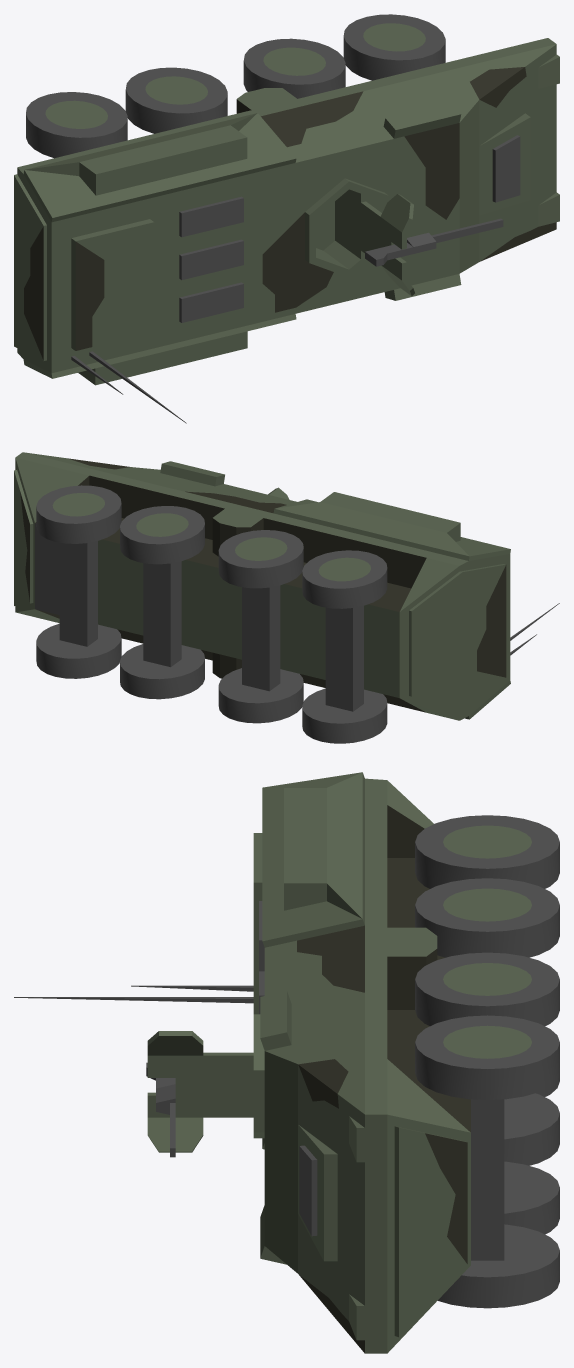
File: apc.dae
3 views of the same model, one above another, from view 1: azimuth 30°, elevation 25°; view 2: azimuth 150°, elevation 25°; view 3: azimuth 270°, elevation 25° (orthographic). The views are drawn at different scales.
Parts seen in each view (by area): view 1: coords_ME_ID11_MA_Color_F20, coords_ME_ID159_MA_Color_F20, coords_ME_ID153_MA_Color_F20, coords_ME_ID3_MA_material, coords_ME_ID93_MA_material, coords_ME_ID105_MA_material, coords_ME_ID273_MA_Color_E25, coords_ME_ID111_MA_material, coords_ME_ID267_MA_Color_E25, coords_ME_ID25_MA_Color_E25, coords_ME_ID255_MA_Color_E25, coords_ME_ID33_MA_Color_F20 (+13 smaller); view 2: coords_ME_ID11_MA_Color_F20, coords_ME_ID39_MA_Color_E25, coords_ME_ID75_MA_material, coords_ME_ID225_MA_Color_F20, coords_ME_ID123_MA_material, coords_ME_ID135_MA_material, coords_ME_ID69_MA_material, coords_ME_ID291_MA_Color_F20, coords_ME_ID285_MA_Color_F20, coords_ME_ID99_MA_material, coords_ME_ID19_MA_material, coords_ME_ID81_MA_material (+14 smaller); view 3: coords_ME_ID11_MA_Color_F20, coords_ME_ID195_MA_Color_F20, coords_ME_ID3_MA_material, coords_ME_ID39_MA_Color_E25, coords_ME_ID93_MA_material, coords_ME_ID111_MA_material, coords_ME_ID105_MA_material, coords_ME_ID19_MA_material, coords_ME_ID153_MA_Color_F20, coords_ME_ID75_MA_material, coords_ME_ID81_MA_material, coords_ME_ID87_MA_material (+14 smaller).
Part boxes in pixels (x1=…): coords_ME_ID11_MA_Color_F20: x1=14, y1=38, x2=559, y2=385; coords_ME_ID159_MA_Color_F20: x1=71, y1=219, x2=154, y2=350; coords_ME_ID153_MA_Color_F20: x1=316, y1=189, x2=412, y2=290; coords_ME_ID3_MA_material: x1=343, y1=14, x2=445, y2=80; coords_ME_ID93_MA_material: x1=125, y1=67, x2=227, y2=133; coords_ME_ID105_MA_material: x1=26, y1=92, x2=127, y2=158; coords_ME_ID273_MA_Color_E25: x1=262, y1=212, x2=333, y2=312; coords_ME_ID111_MA_material: x1=243, y1=38, x2=345, y2=98; coords_ME_ID267_MA_Color_E25: x1=404, y1=123, x2=459, y2=219; coords_ME_ID25_MA_Color_E25: x1=75, y1=242, x2=104, y2=350; coords_ME_ID255_MA_Color_E25: x1=261, y1=91, x2=363, y2=147; coords_ME_ID33_MA_Color_F20: x1=305, y1=178, x2=388, y2=277; coords_ME_ID11_MA_Color_F20: x1=15, y1=452, x2=510, y2=720; coords_ME_ID39_MA_Color_E25: x1=35, y1=475, x2=426, y2=611; coords_ME_ID75_MA_material: x1=35, y1=523, x2=97, y2=646; coords_ME_ID225_MA_Color_F20: x1=181, y1=560, x2=241, y2=659; coords_ME_ID123_MA_material: x1=325, y1=606, x2=363, y2=711; coords_ME_ID135_MA_material: x1=242, y1=585, x2=280, y2=691; coords_ME_ID69_MA_material: x1=143, y1=561, x2=181, y2=667; coords_ME_ID291_MA_Color_F20: x1=98, y1=539, x2=143, y2=635; coords_ME_ID285_MA_Color_F20: x1=280, y1=584, x2=325, y2=679; coords_ME_ID99_MA_material: x1=302, y1=688, x2=387, y2=743; coords_ME_ID19_MA_material: x1=36, y1=623, x2=121, y2=678; coords_ME_ID81_MA_material: x1=218, y1=668, x2=303, y2=723; coords_ME_ID11_MA_Color_F20: x1=260, y1=772, x2=470, y2=1353; coords_ME_ID195_MA_Color_F20: x1=394, y1=1126, x2=467, y2=1337; coords_ME_ID3_MA_material: x1=415, y1=1015, x2=559, y2=1100; coords_ME_ID39_MA_Color_E25: x1=387, y1=805, x2=470, y2=1132; coords_ME_ID93_MA_material: x1=415, y1=878, x2=559, y2=957; coords_ME_ID111_MA_material: x1=415, y1=952, x2=559, y2=1026; coords_ME_ID105_MA_material: x1=415, y1=815, x2=559, y2=888; coords_ME_ID19_MA_material: x1=437, y1=1224, x2=559, y2=1308; coords_ME_ID153_MA_Color_F20: x1=147, y1=1052, x2=253, y2=1117; coords_ME_ID75_MA_material: x1=471, y1=1099, x2=504, y2=1260; coords_ME_ID81_MA_material: x1=504, y1=1093, x2=559, y2=1165; coords_ME_ID87_MA_material: x1=504, y1=1161, x2=559, y2=1234.
Size of the model in its own units: 75.2 by 27.78 by 50.48.
